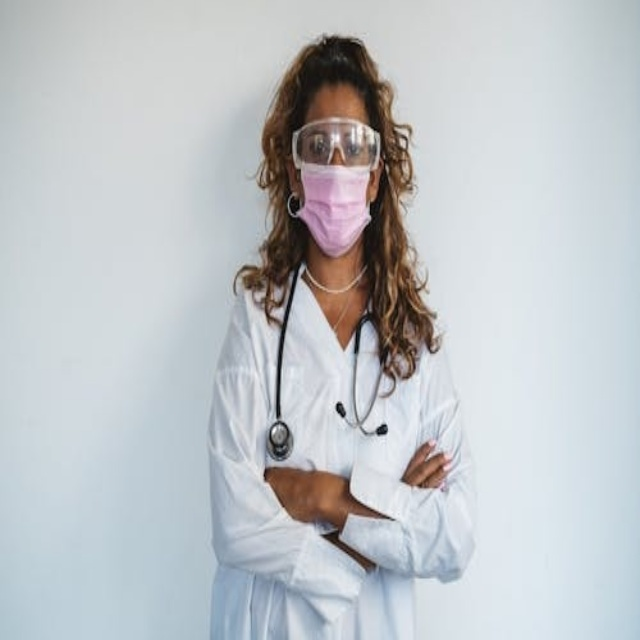Gafas: (287, 110, 384, 181)
Mascara: (292, 130, 377, 253)
Sin_guantes: (247, 452, 320, 542), (398, 421, 457, 505)
